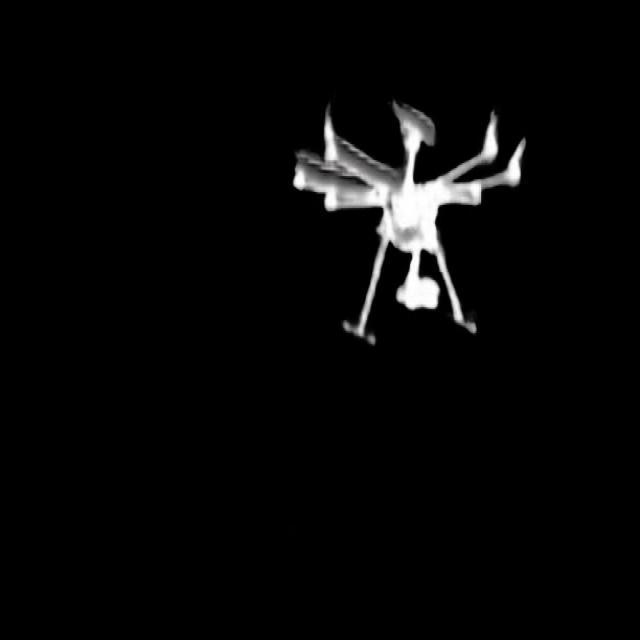drone: (286, 84, 532, 354)
